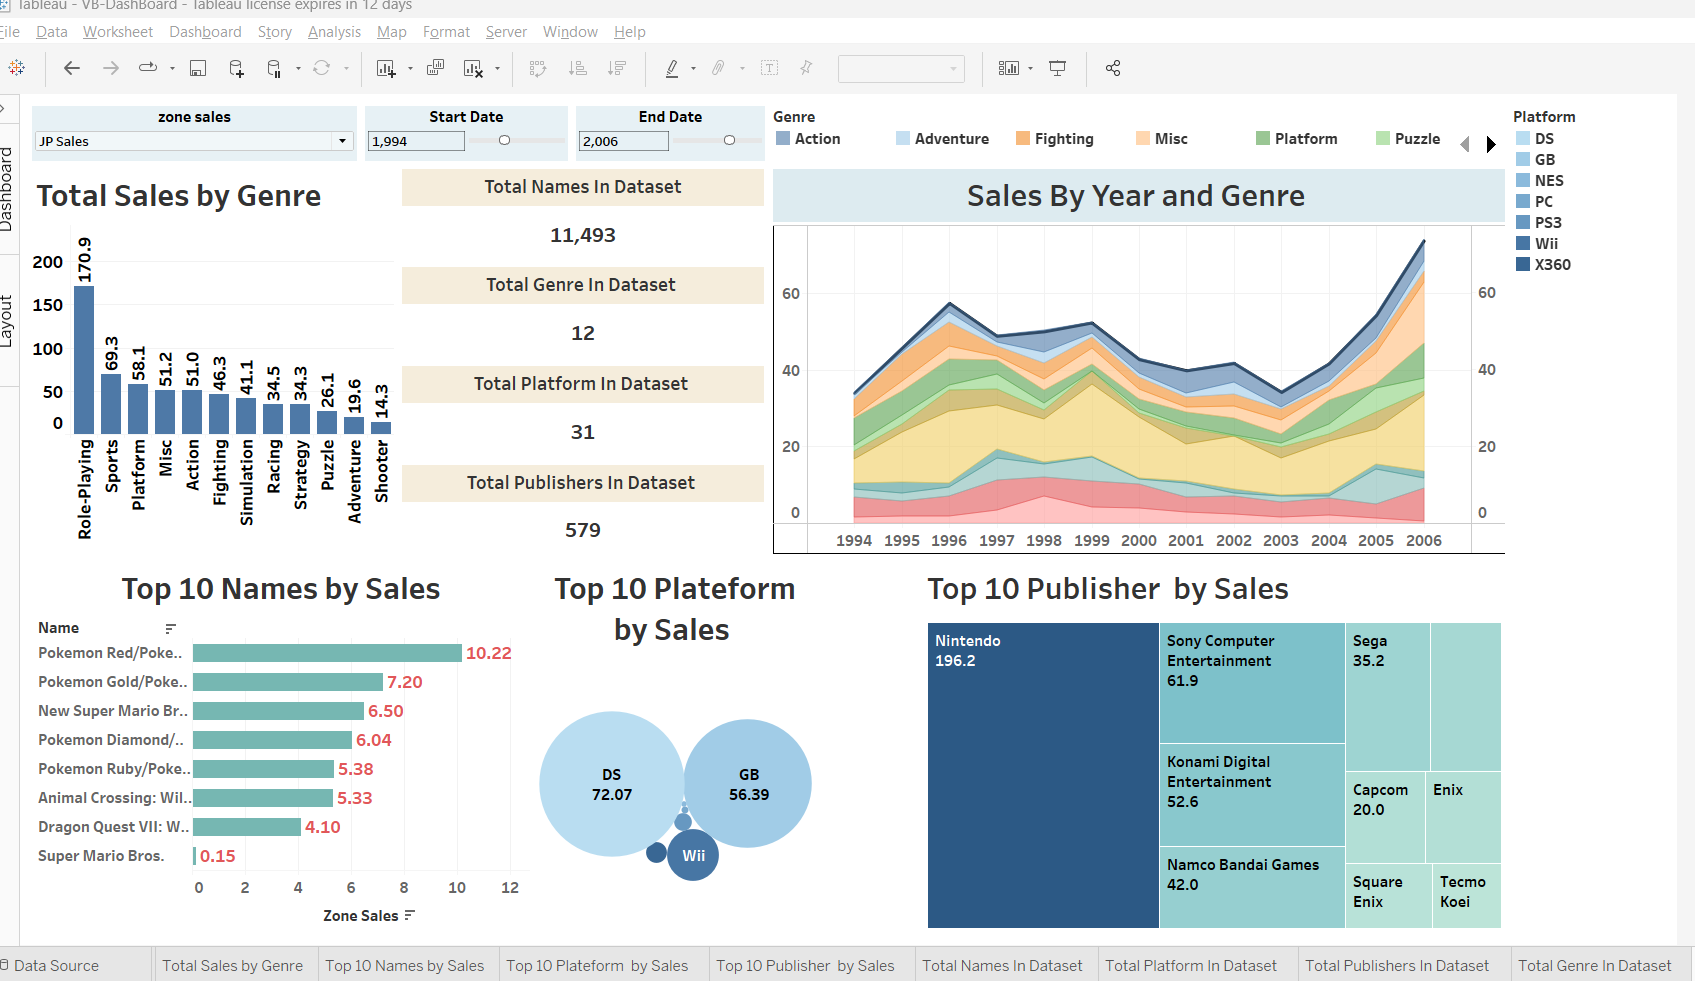

The page's visual inventory and layout, read from the dashboard file:
{"tool":"tableau","page":{"name":"Dashboard 1","canvas":[1657,851],"ordinal":0},"visuals":[{"type":"parameter","param":"[Parameters].[Parameter 1]","box":[8,8,333,63]},{"type":"parameter","param":"[Parameters].[Parameter 2]","box":[341,8,211,63]},{"type":"parameter","param":"[Parameters].[Parameter 3]","box":[552,8,196.5,63]},{"type":"legend","title":"Sales By Year and Genre ","param":"[federated.1neo76j0wutcg51bx0z0i1pzh1em].[none:Genre:nk]","box":[748.5,8,740.5,63]},{"type":"legend","title":"Top 10 Plateform  by Sales ","param":"[federated.1neo76j0wutcg51bx0z0i1pzh1em].[none:Platform:nk]","box":[1489,8,160,177]},{"type":"worksheet","title":"Total Sales by Genre","mark":"Automatic","rows":["Calculation_1389360499768799232"],"cols":["Genre"],"box":[8,71,370.3,393]},{"type":"worksheet","title":"Total Names In Dataset","mark":"Automatic","box":[378.3,71,370.2,98.3]},{"type":"worksheet","title":"Sales By Year and Genre ","mark":"Automatic","rows":["Calculation_1389360499768799232","Calculation_1389360499768799232"],"cols":["Year"],"box":[748.5,71,740.5,393]},{"type":"worksheet","title":"Total Genre In Dataset ","mark":"Automatic","box":[378.3,169.3,370.2,98.2]},{"type":"worksheet","title":"Total Platform In Dataset ","mark":"Automatic","box":[378.3,267.5,370.2,99.5]},{"type":"worksheet","title":"Total Publishers In Dataset ","mark":"Automatic","box":[378.3,367,370.2,97]},{"type":"worksheet","title":"Top 10 Names by Sales","mark":"Bar","rows":["Name"],"cols":["Calculation_1389360499768799232"],"box":[8,464,506,379]},{"type":"worksheet","title":"Top 10 Plateform  by Sales ","mark":"Circle","box":[514,464,385,379]},{"type":"worksheet","title":"Top 10 Publisher  by Sales ","mark":"Automatic","box":[899,464,590,379]}]}

Visuals, with their boxes on the page's 1657x851 design canvas (x1, y1, x2, y2). These are canvas units, not pixel positions in the 1695x981 screenshot, which may show the page scaled, cropped or inside an application window:
parameter: pyautogui.locateOnScreen(8, 8, 341, 71)
parameter: pyautogui.locateOnScreen(341, 8, 552, 71)
parameter: pyautogui.locateOnScreen(552, 8, 748, 71)
"Sales By Year and Genre " legend: pyautogui.locateOnScreen(748, 8, 1489, 71)
"Top 10 Plateform  by Sales " legend: pyautogui.locateOnScreen(1489, 8, 1649, 185)
"Total Sales by Genre" worksheet: pyautogui.locateOnScreen(8, 71, 378, 464)
"Total Names In Dataset" worksheet: pyautogui.locateOnScreen(378, 71, 748, 169)
"Sales By Year and Genre " worksheet: pyautogui.locateOnScreen(748, 71, 1489, 464)
"Total Genre In Dataset " worksheet: pyautogui.locateOnScreen(378, 169, 748, 268)
"Total Platform In Dataset " worksheet: pyautogui.locateOnScreen(378, 268, 748, 367)
"Total Publishers In Dataset " worksheet: pyautogui.locateOnScreen(378, 367, 748, 464)
"Top 10 Names by Sales" worksheet (Bar marks): pyautogui.locateOnScreen(8, 464, 514, 843)
"Top 10 Plateform  by Sales " worksheet (Circle marks): pyautogui.locateOnScreen(514, 464, 899, 843)
"Top 10 Publisher  by Sales " worksheet: pyautogui.locateOnScreen(899, 464, 1489, 843)
